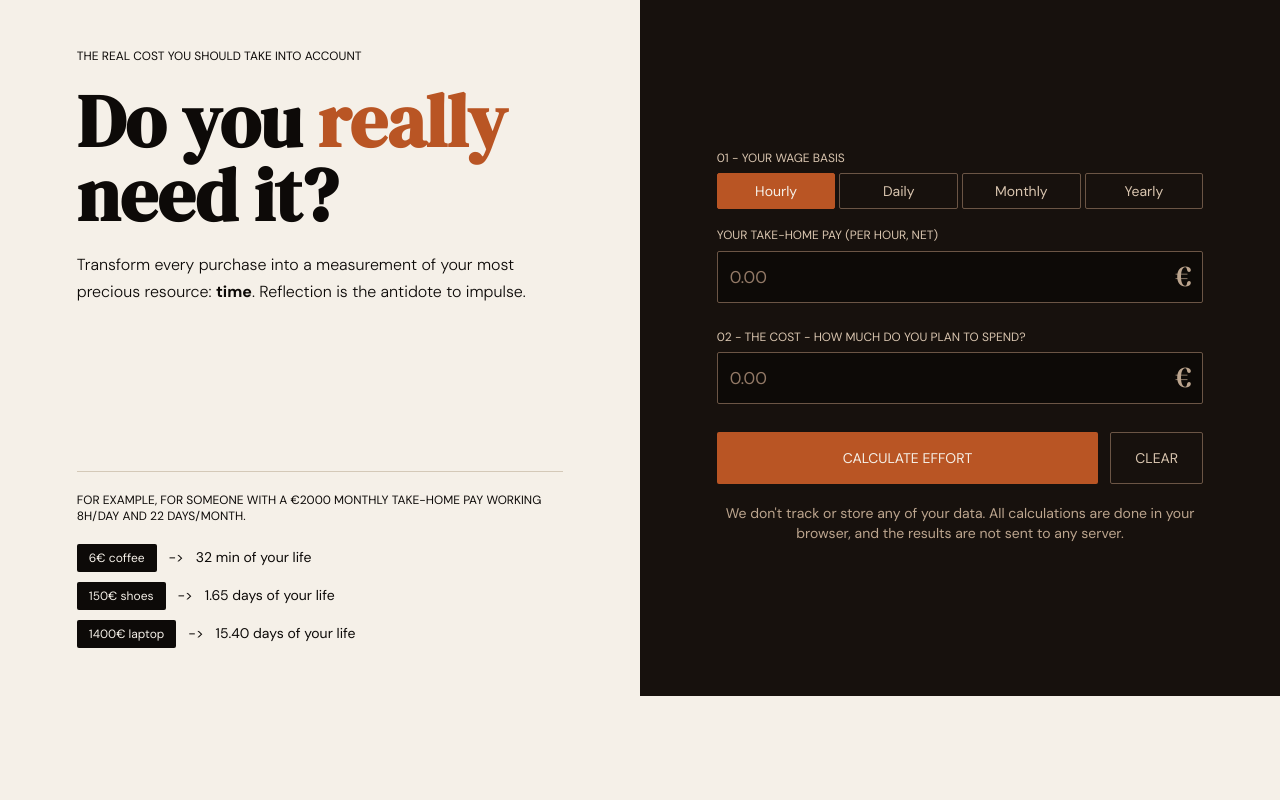
Test: CalculatorPageContainer › calculates the time cost from an hourly wage
Type "10" into the number field labelled "Your take-home pay (per hour, net)" at (960, 277), box [717, 251, 1203, 303]
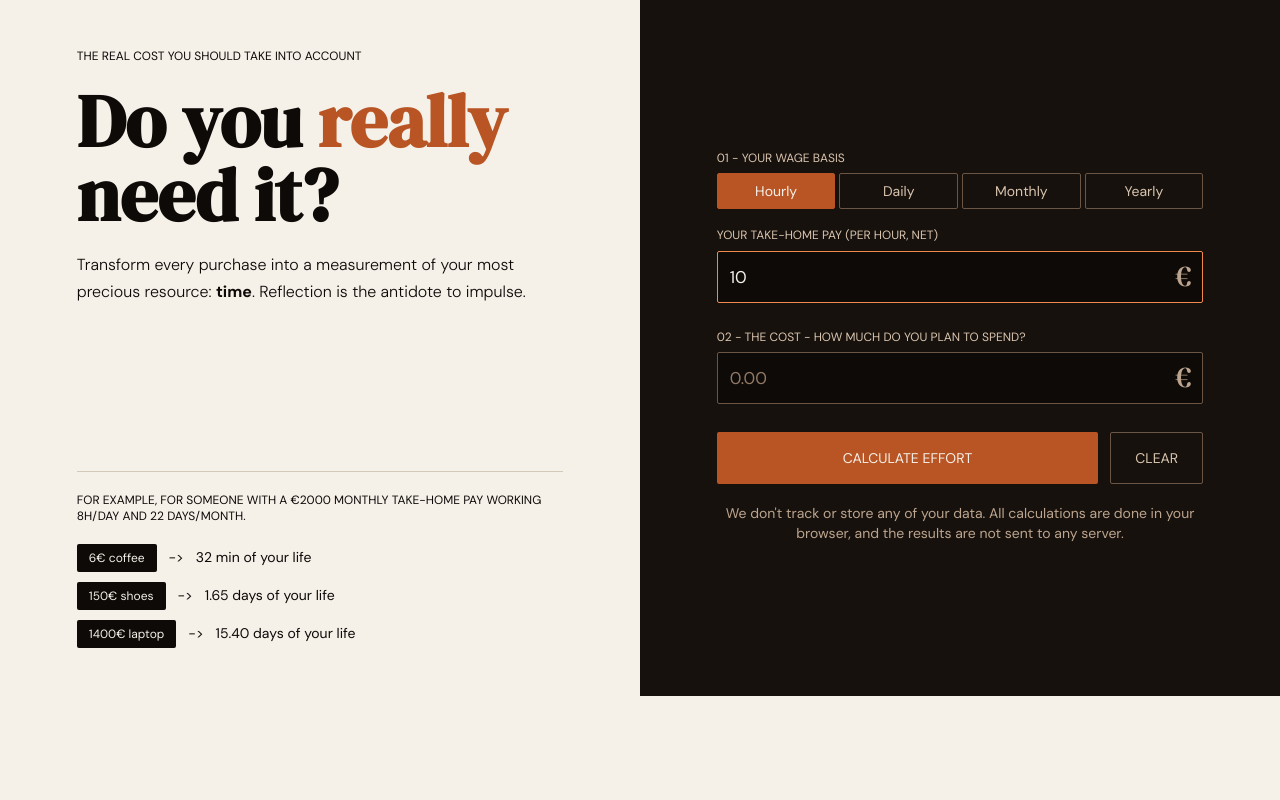
Type "120" into the number field with placeholder "0.00" at (960, 378), box [717, 352, 1203, 404]
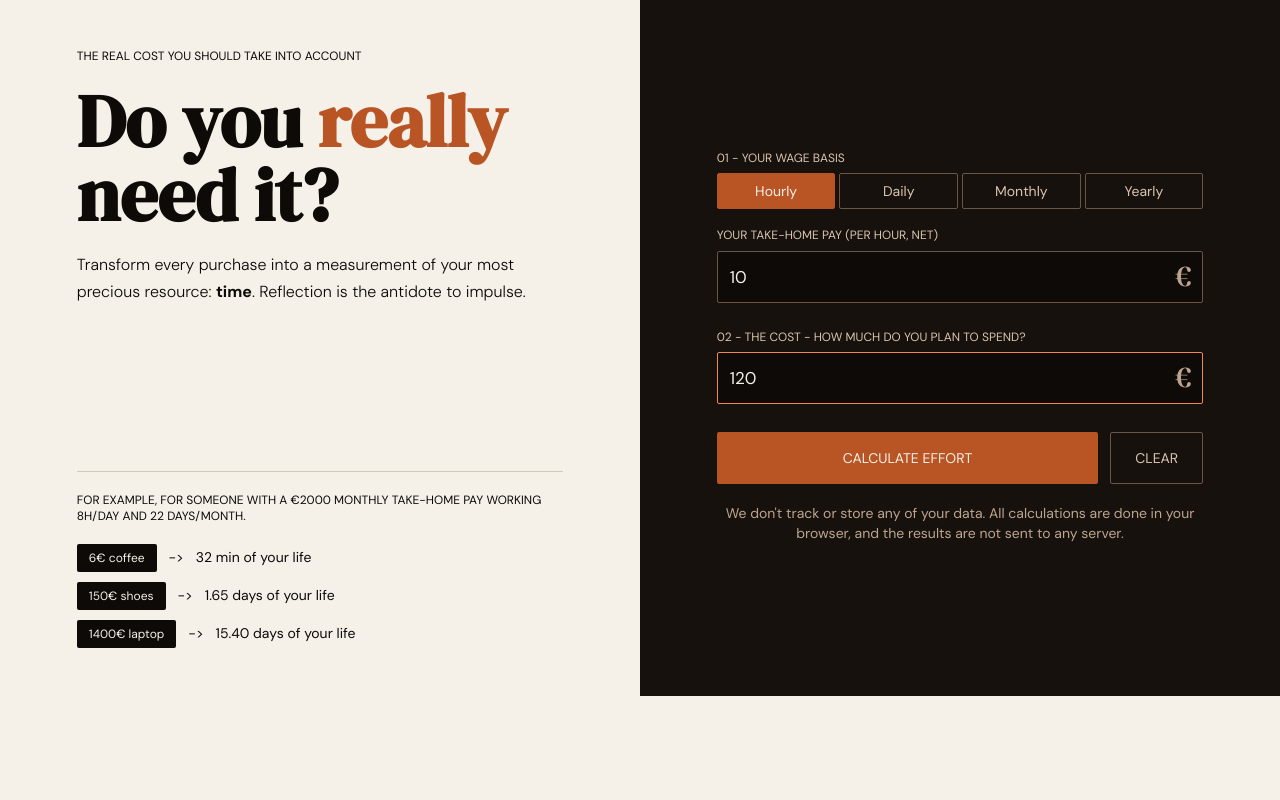
Click the button "Calculate Effort" at (908, 458), box [717, 432, 1098, 484]
(page scrolled)
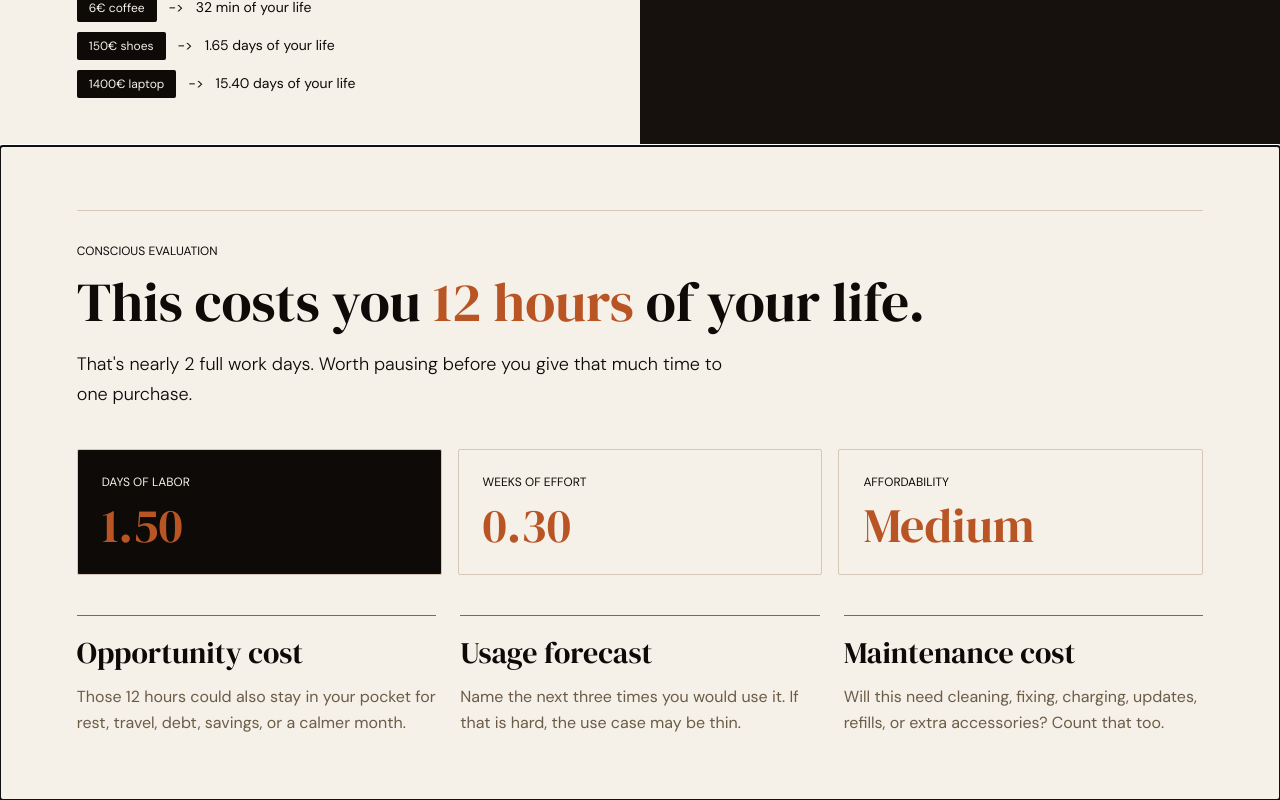
Now the text "12 hours" is shown, box [433, 265, 634, 340]
Now the text "1.50" is shown, box [102, 493, 183, 559]
Now the text "0.30" is shown, box [483, 493, 571, 559]
